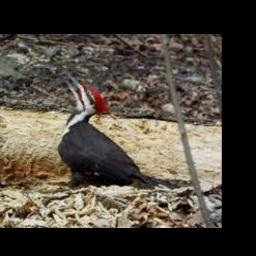Woodpecker: (57, 73, 180, 189)
